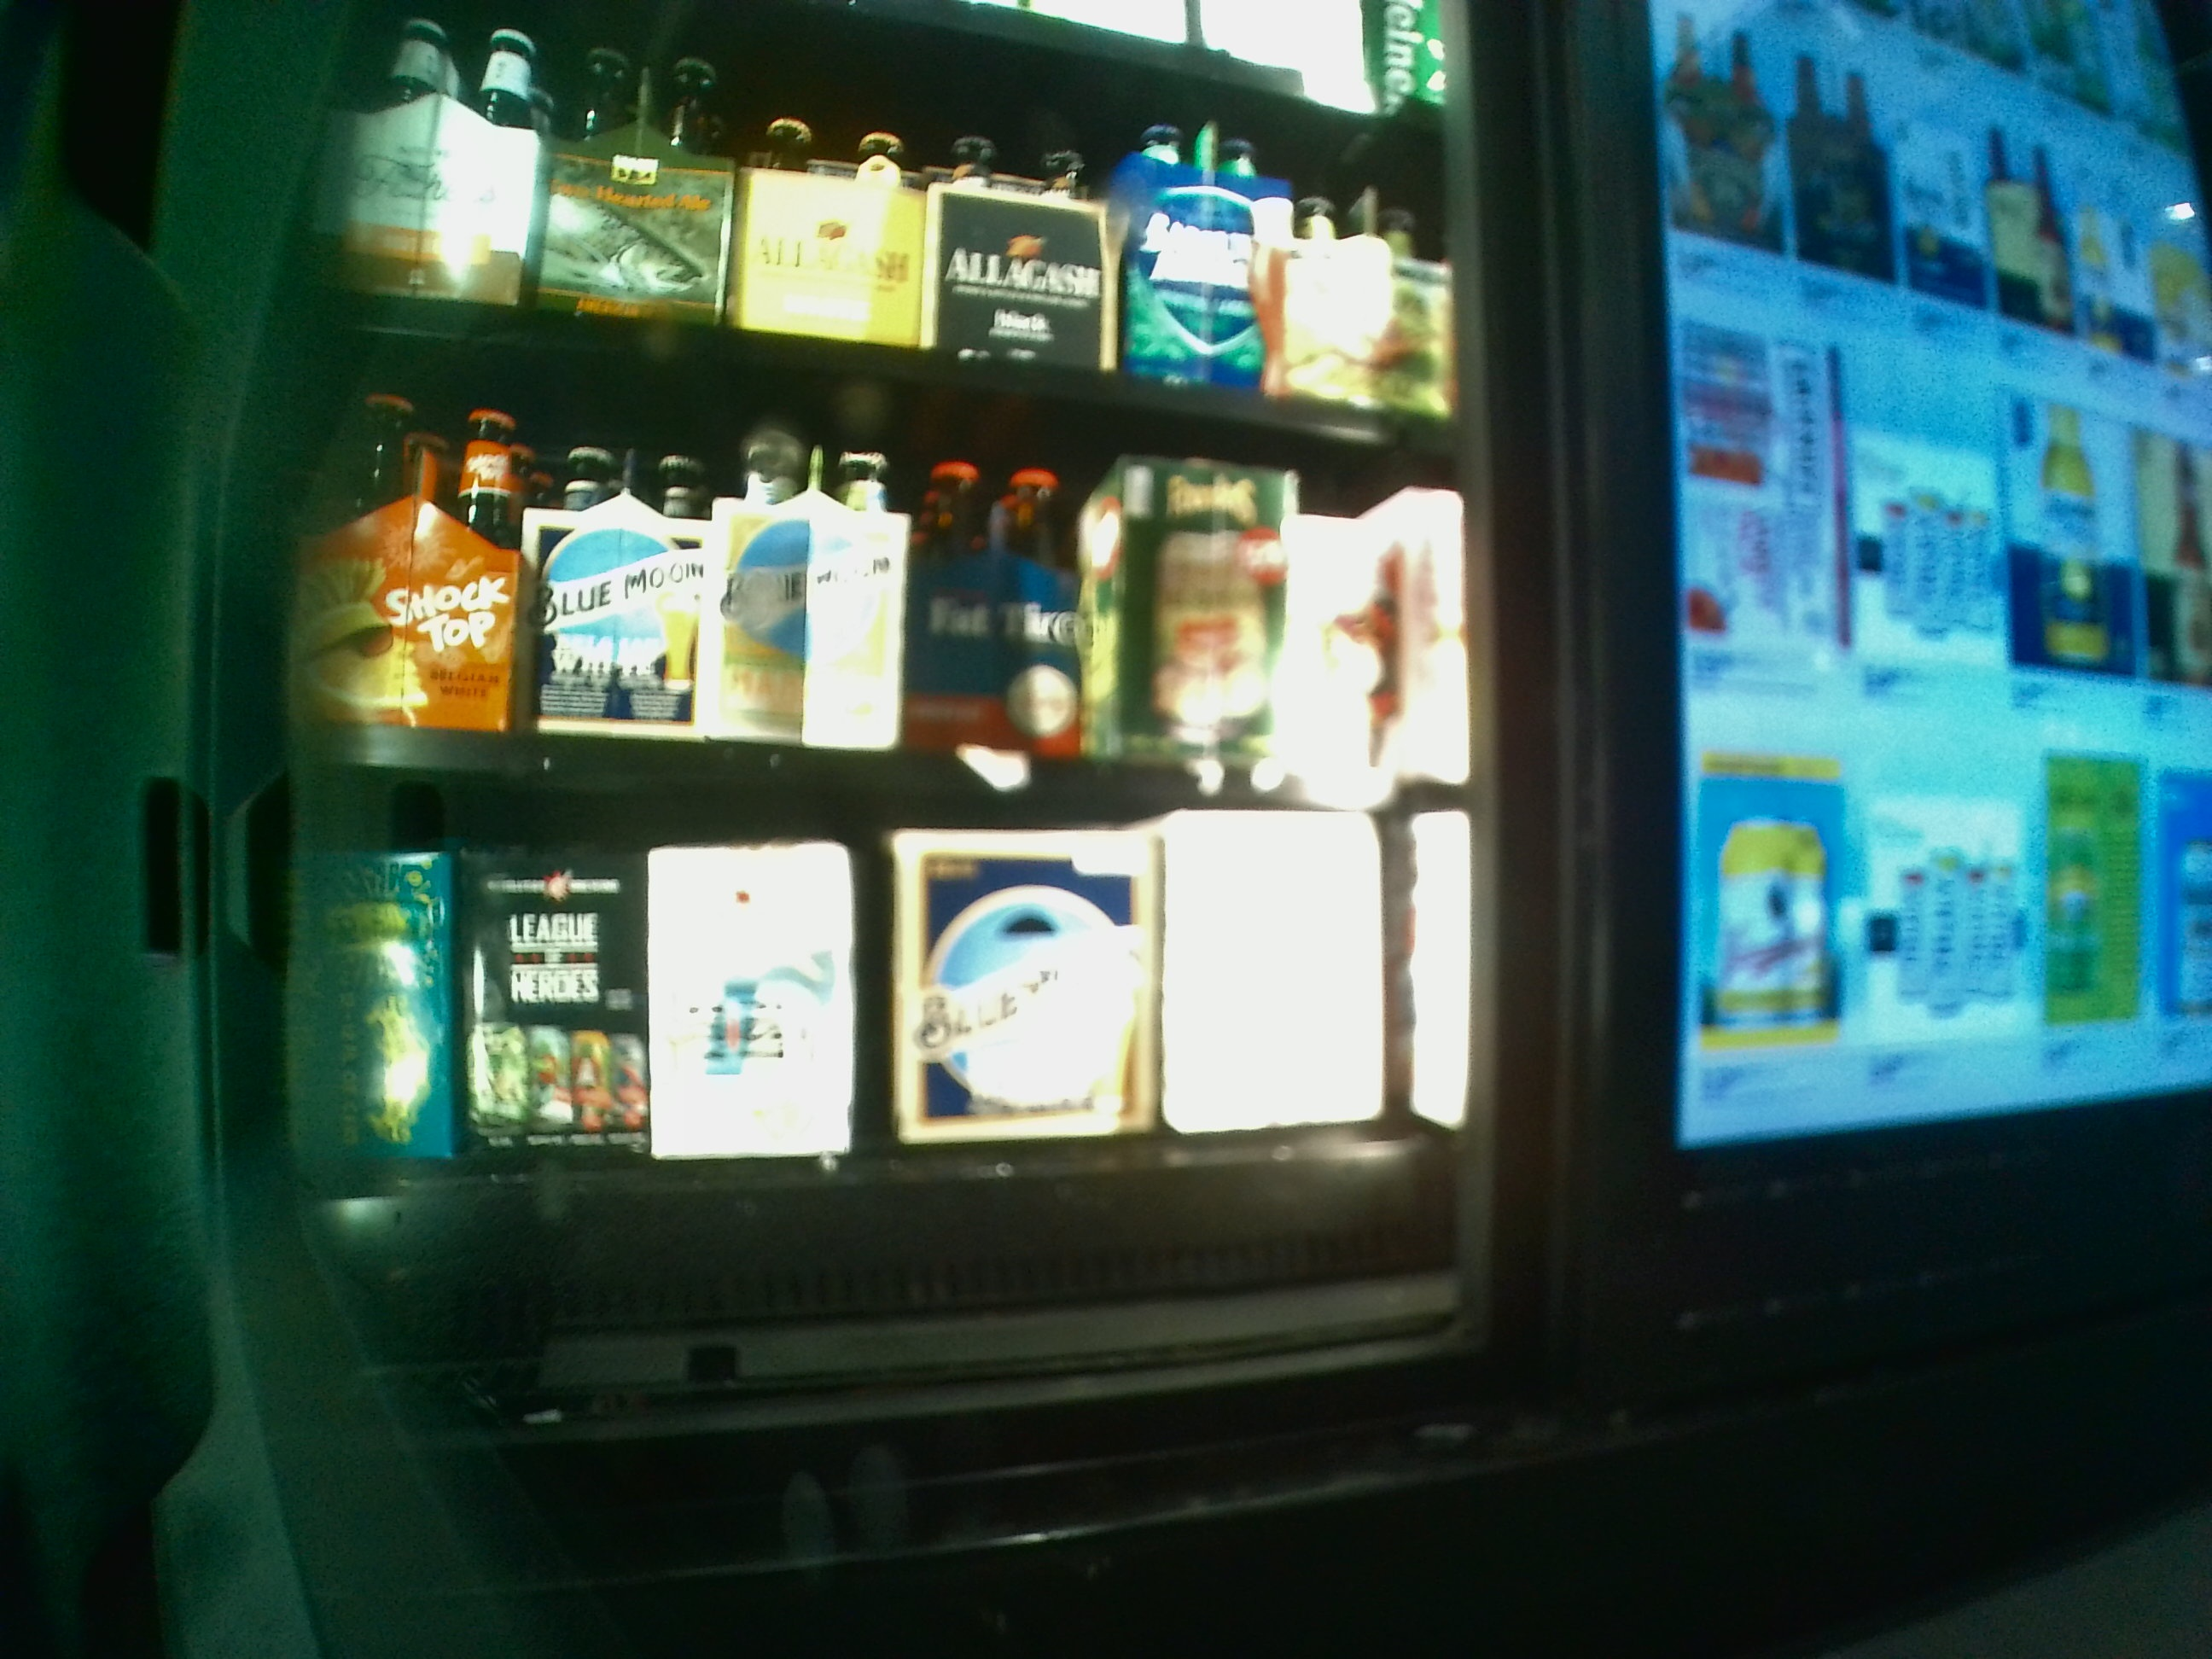shelf: (280, 809, 1470, 1316), (280, 328, 1465, 791)
